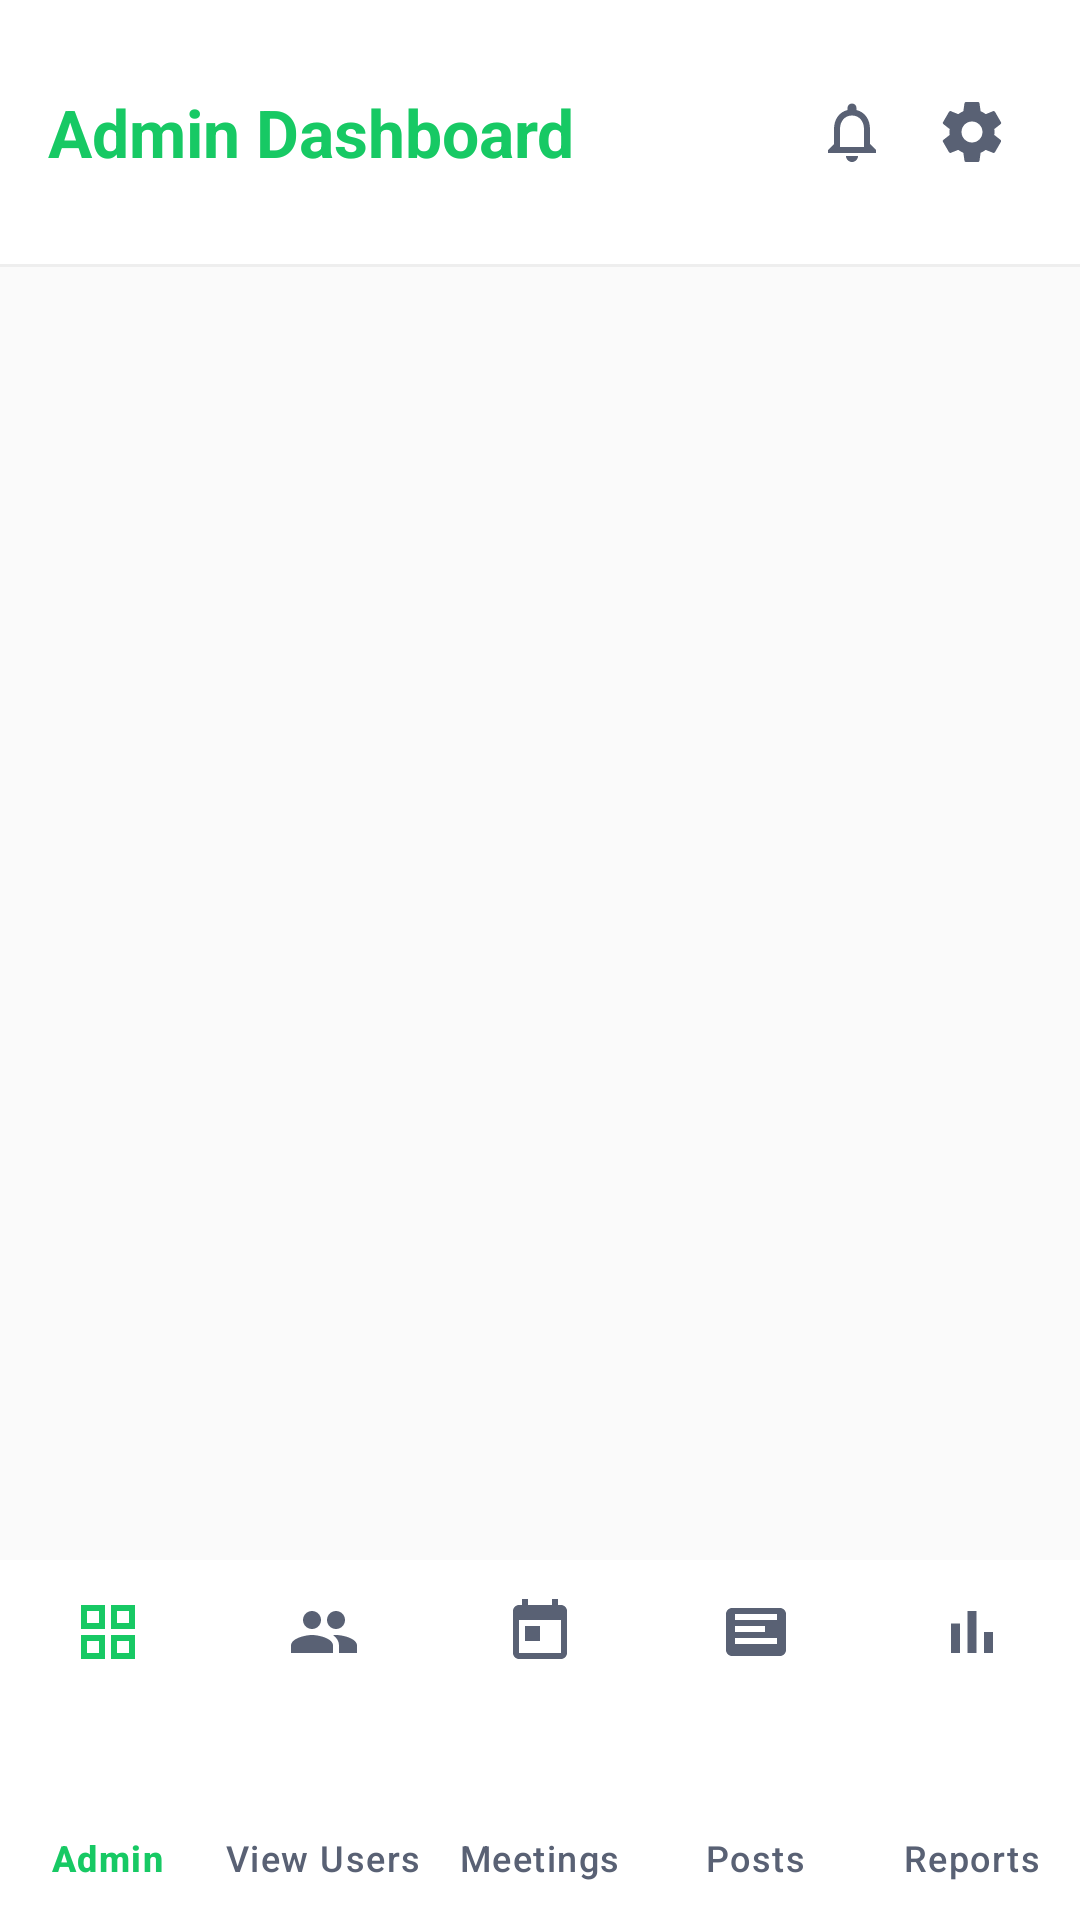

Named icons in this screenshot (1080 × 1920) and their centers, [x,y]:
notification: [852,132]
settings: [972,132]
